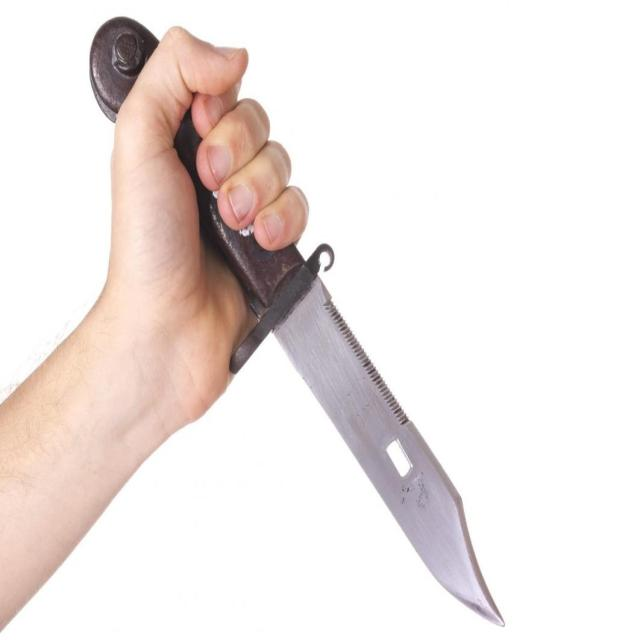knife: (267, 252, 508, 635)
